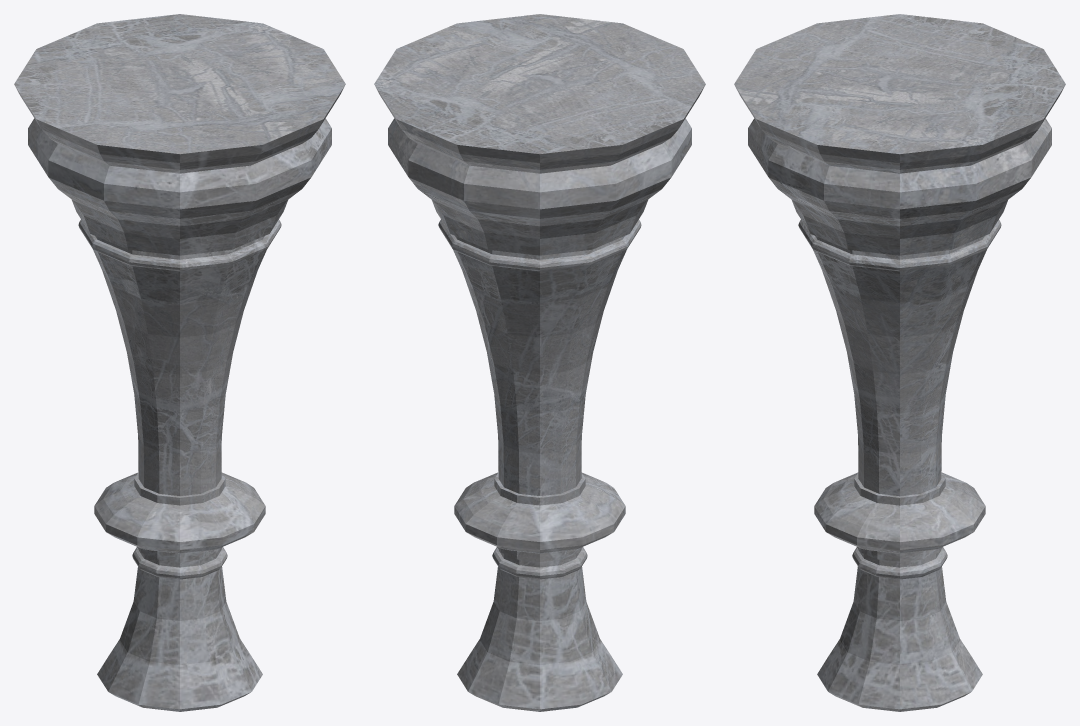
The model's file is queen.obj.
The picture shows the model from 3 angles, left to right: view 1: azimuth 30°, elevation 25°; view 2: azimuth 150°, elevation 25°; view 3: azimuth 270°, elevation 25°; orthographic projection.
Parts seen in each view (by area): view 1: queen; view 2: queen; view 3: queen.
Boxes of the visible parts, <box> form: queen: <box>14,14,345,711</box>; queen: <box>374,14,705,711</box>; queen: <box>734,14,1065,711</box>.
Bounding box in the file's own units: 0.1699 × 0.3398 × 0.1699.
1 material, 1 textured.
